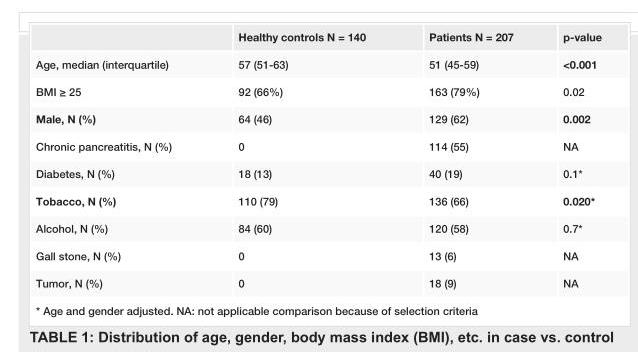table: (35, 35, 600, 315)
table column: (204, 35, 396, 315), (35, 35, 204, 315), (396, 35, 537, 315), (537, 35, 600, 315)
table column header: (35, 35, 600, 51)
table projected row header: (35, 298, 600, 315)
table row: (35, 51, 600, 79), (35, 106, 600, 134), (35, 188, 600, 216), (35, 270, 600, 298), (35, 79, 600, 106), (35, 134, 600, 161), (35, 161, 600, 188), (35, 216, 600, 243), (35, 243, 600, 270), (35, 298, 600, 315), (35, 35, 600, 51)
